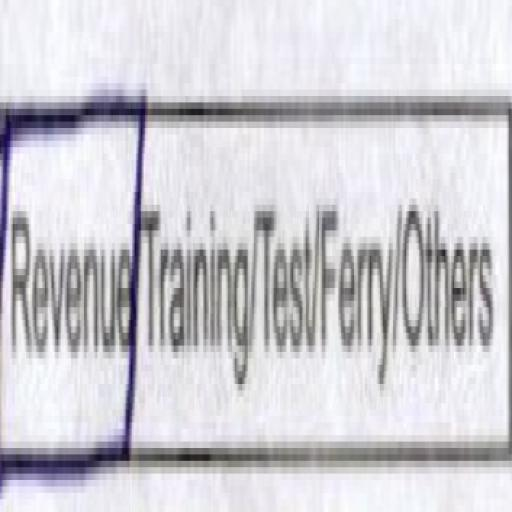check: (0, 32, 136, 512)
